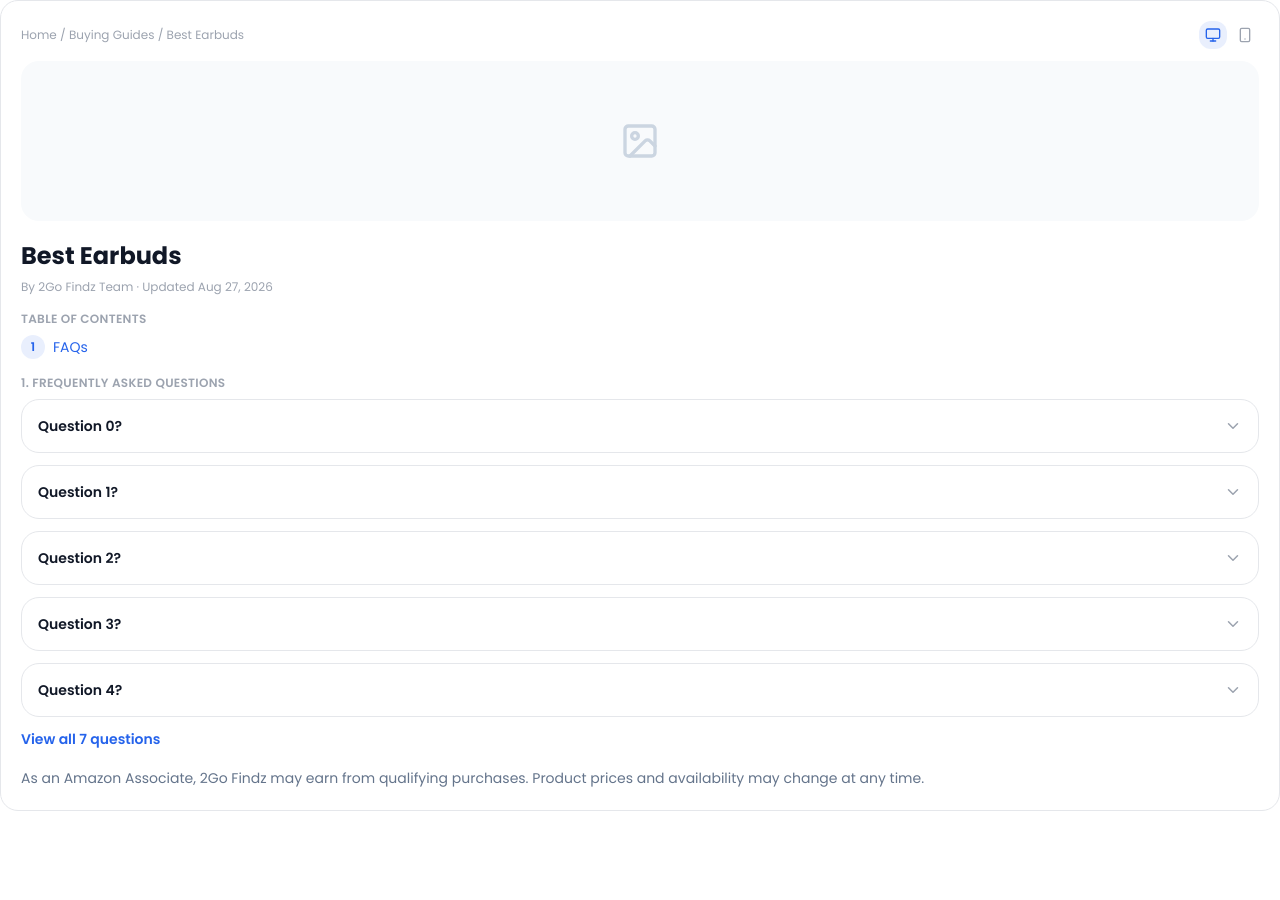
LivePreview › shows View all N questions when more than 5 FAQs exist, and expands the rest on click
The image size is (1280, 900).
Check: the button "Question 4?" is shown, box [38,680,1242,700]
Check: the button "question 5?" is not shown
Click the button "View all 7 questions".
click(91, 739)  # box [21,729,160,749]
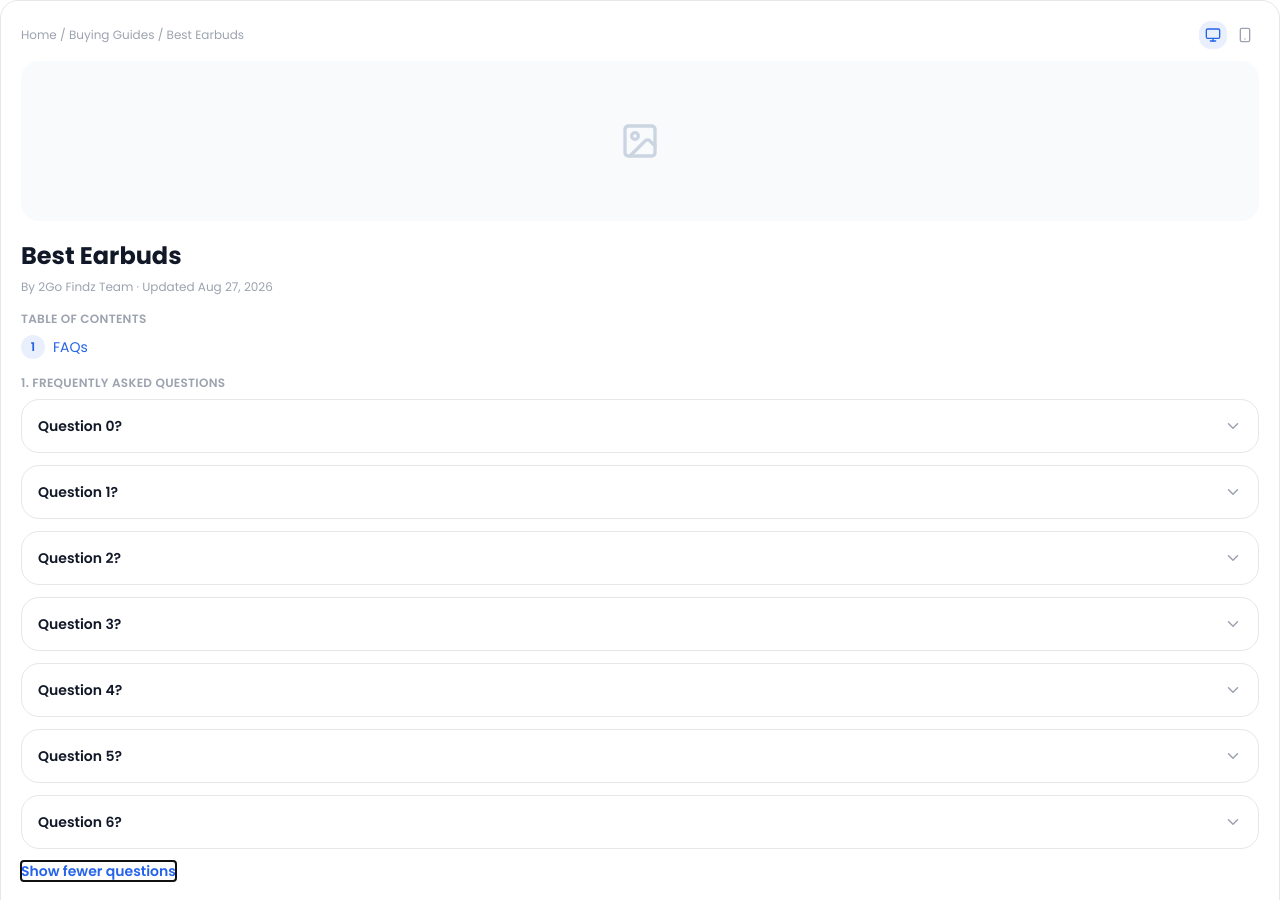
Check: the button "Question 5?" is shown, box [38,746,1242,766]
Check: the button "Show fewer questions" is shown, box [21,861,176,881]
